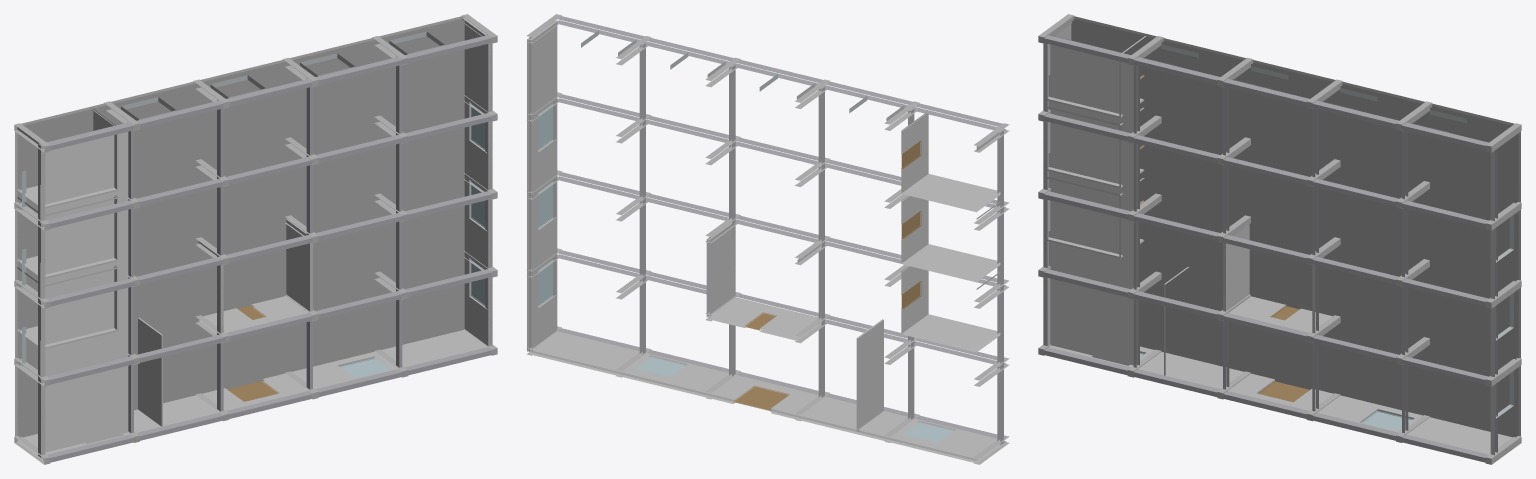
The model's file is building.glb.
3 renders of one model, left to right at view 1: azimuth 30°, elevation 25°; view 2: azimuth 150°, elevation 25°; view 3: azimuth 330°, elevation 25°, orthographic.
Visible parts, largest first — view 1: Floor_Floor_G, Ceiling_Ceiling_West_G, Wall_Ext_East_G, Wall_Ext_South_G, Wall_Ext_North_G, Wall_Ext_West_G, Wall_Reception_East_G, Wall_Core_East_F0, Wall_Core_South_F0, Beam_MainBeam_X_B1_F0, Beam_MainBeam_X_A1_F0, Beam_MainBeam_X_D3_F0 (+28 smaller); view 2: Wall_Ext_South_G, Wall_Ext_East_G, Wall_Reception_East_G, Wall_Core_East_F0, Wall_Core_South_F0, Floor_Floor_G, Wall_Meeting1_South_G, Wall_Meeting2_South_G, Wall_Meeting3_South_G, Wall_Meeting3_East_G, Wall_Meeting2_East_G, Wall_Meeting1_East_G (+40 smaller); view 3: Floor_Floor_G, Ceiling_Ceiling_West_G, Wall_Ext_South_G, Wall_Ext_East_G, Wall_Ext_North_G, Wall_Ext_West_G, Wall_Core_West_F0, Wall_Core_South_F0, Beam_MainBeam_X_D1_F0, Beam_MainBeam_X_D3_F0, Beam_MainBeam_X_D2_F0, Beam_MainBeam_X_D4_F0 (+23 smaller).
Part boxes in pixels (bbox=[...]): Floor_Floor_G: bbox=[17, 18, 464, 439]; Ceiling_Ceiling_West_G: bbox=[45, 122, 128, 452]; Wall_Ext_East_G: bbox=[462, 18, 492, 346]; Wall_Ext_South_G: bbox=[17, 329, 487, 459]; Wall_Ext_North_G: bbox=[17, 16, 487, 147]; Wall_Ext_West_G: bbox=[15, 127, 45, 458]; Wall_Reception_East_G: bbox=[138, 317, 162, 426]; Wall_Core_East_F0: bbox=[286, 219, 312, 311]; Wall_Core_South_F0: bbox=[198, 296, 308, 333]; Beam_MainBeam_X_B1_F0: bbox=[137, 412, 226, 441]; Beam_MainBeam_X_A1_F0: bbox=[43, 434, 136, 462]; Beam_MainBeam_X_D3_F0: bbox=[315, 213, 405, 240]; Wall_Ext_South_G: bbox=[529, 331, 1001, 463]; Wall_Ext_East_G: bbox=[527, 21, 557, 352]; Wall_Reception_East_G: bbox=[856, 319, 883, 431]; Wall_Core_East_F0: bbox=[706, 221, 735, 317]; Wall_Core_South_F0: bbox=[708, 297, 821, 340]; Floor_Floor_G: bbox=[529, 40, 978, 460]; Wall_Meeting1_South_G: bbox=[902, 314, 1000, 352]; Wall_Meeting2_South_G: bbox=[902, 244, 1000, 282]; Wall_Meeting3_South_G: bbox=[902, 174, 1000, 211]; Wall_Meeting3_East_G: bbox=[901, 112, 928, 193]; Wall_Meeting2_East_G: bbox=[901, 196, 928, 263]; Wall_Meeting1_East_G: bbox=[901, 266, 928, 333]; Floor_Floor_G: bbox=[1071, 19, 1518, 437]; Ceiling_Ceiling_West_G: bbox=[1048, 35, 1137, 365]; Wall_Ext_South_G: bbox=[1049, 345, 1512, 454]; Wall_Ext_East_G: bbox=[1490, 131, 1520, 455]; Wall_Ext_North_G: bbox=[1074, 16, 1514, 132]; Wall_Ext_West_G: bbox=[1043, 24, 1071, 346]; Wall_Core_West_F0: bbox=[1223, 224, 1249, 311]; Wall_Core_South_F0: bbox=[1229, 296, 1332, 332]; Beam_MainBeam_X_D1_F0: bbox=[1309, 413, 1398, 441]; Beam_MainBeam_X_D3_F0: bbox=[1309, 256, 1399, 284]; Beam_MainBeam_X_D2_F0: bbox=[1309, 335, 1398, 362]; Beam_MainBeam_X_D4_F0: bbox=[1309, 178, 1399, 206].
Bounding box in the file's own units: 30400 × 20400 × 3500.
